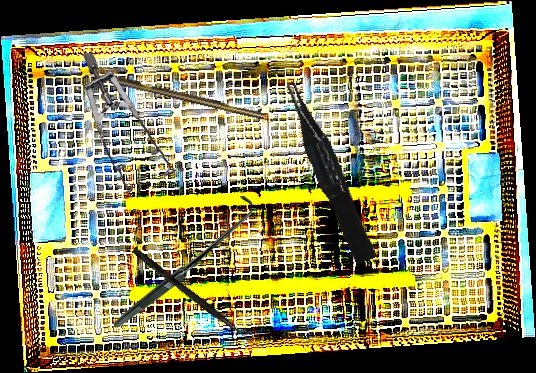Hook Surgical: (114, 196, 252, 327), (130, 247, 262, 349), (83, 67, 266, 122)
Speculum: (67, 51, 190, 200)
Tissue Forceps: (281, 75, 378, 268)
